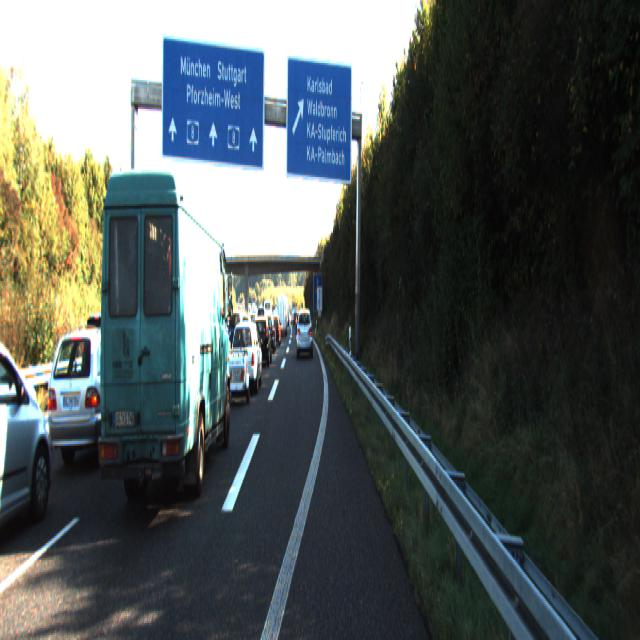Car: (98, 162, 233, 527), (46, 321, 150, 474), (0, 324, 62, 556), (0, 315, 40, 473), (228, 317, 262, 396), (224, 344, 252, 405), (250, 313, 272, 366), (296, 306, 313, 356), (276, 296, 288, 334)
